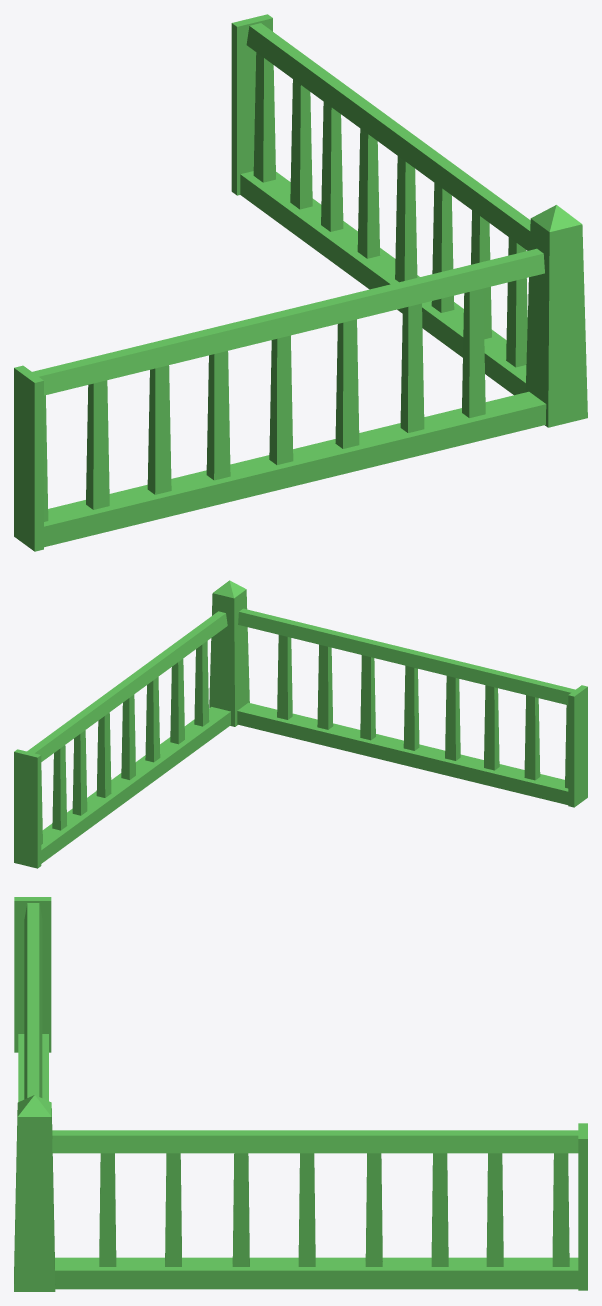
Rendered from Gen_Handrail_Cor.fbx.
3 views of the same model, one above another, from view 1: azimuth 30°, elevation 25°; view 2: azimuth 150°, elevation 25°; view 3: azimuth 270°, elevation 25° (orthographic). The views are drawn at different scales.
Visible parts, largest first — view 1: Gen_Handrail_Cor; view 2: Gen_Handrail_Cor; view 3: Gen_Handrail_Cor.
Part boxes in pixels (left/top/right/bottom): Gen_Handrail_Cor: left=14, top=14, right=587, bottom=551; Gen_Handrail_Cor: left=14, top=580, right=587, bottom=868; Gen_Handrail_Cor: left=14, top=897, right=587, bottom=1291.
Size of the model in its own units: 312 by 113 by 313.
